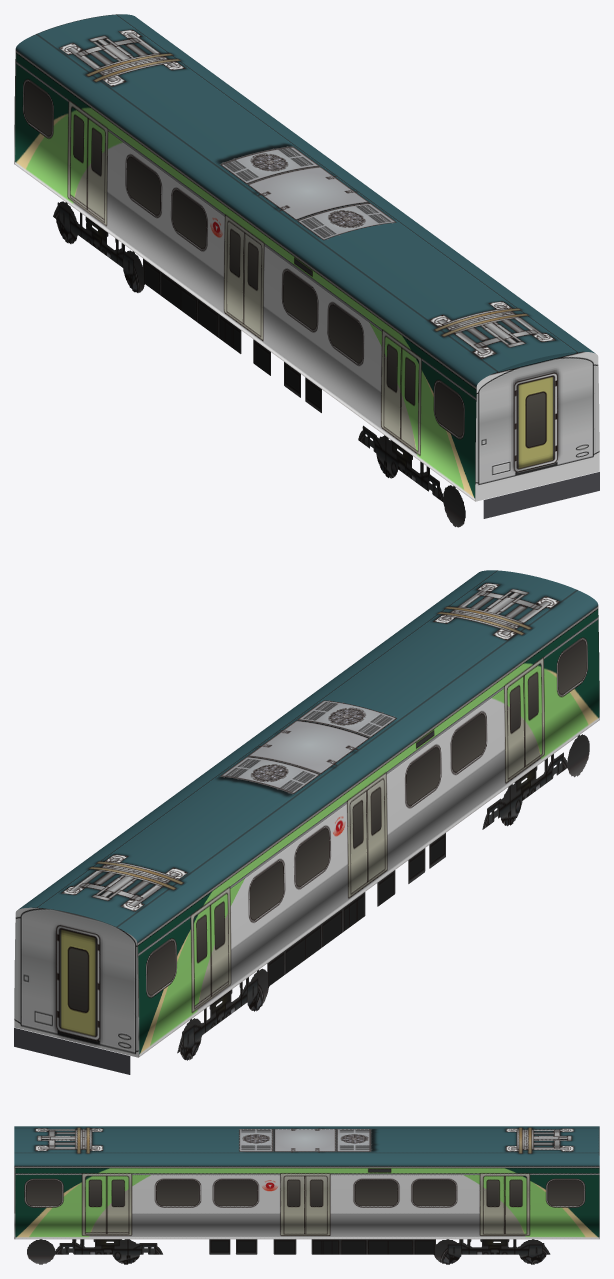
The model's file is car2.glb.
The picture shows the model from 3 angles, top to bottom: view 1: azimuth 30°, elevation 25°; view 2: azimuth 150°, elevation 25°; view 3: azimuth 270°, elevation 25°; orthographic projection. The views are drawn at different scales.
Visible parts, largest first — view 1: tokyu7000-car2; view 2: tokyu7000-car2; view 3: tokyu7000-car2.
Part boxes in pixels (x1,y1,x2,y2): tokyu7000-car2: (14,14,599,527); tokyu7000-car2: (14,570,599,1074); tokyu7000-car2: (14,1126,599,1264).
Bounding box in the file's own units: 2.8 × 3.62 × 18.03.
Materials: 7 (6 with a texture image).
